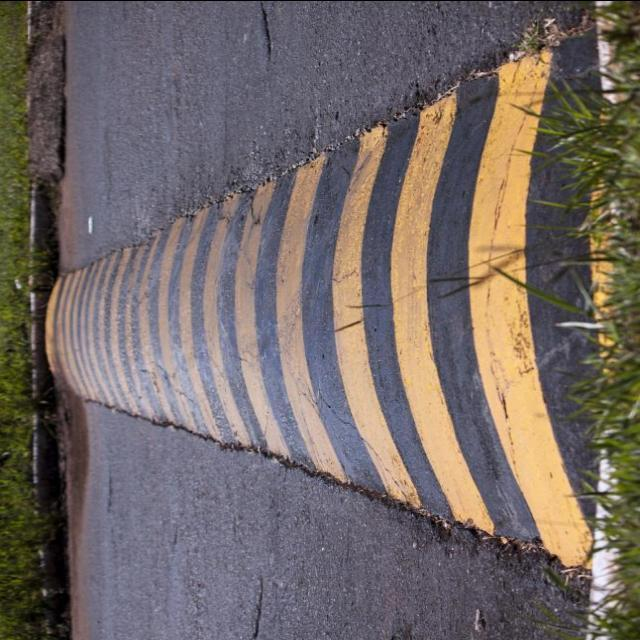speedbreaker: (40, 31, 634, 550)
